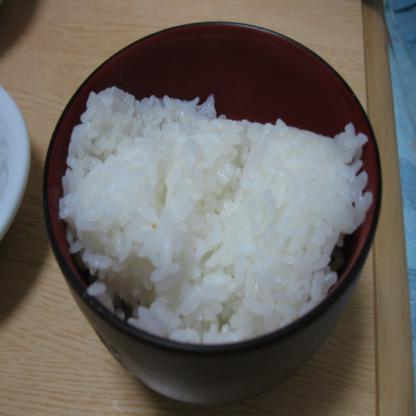rice ball: (57, 74, 368, 371)
